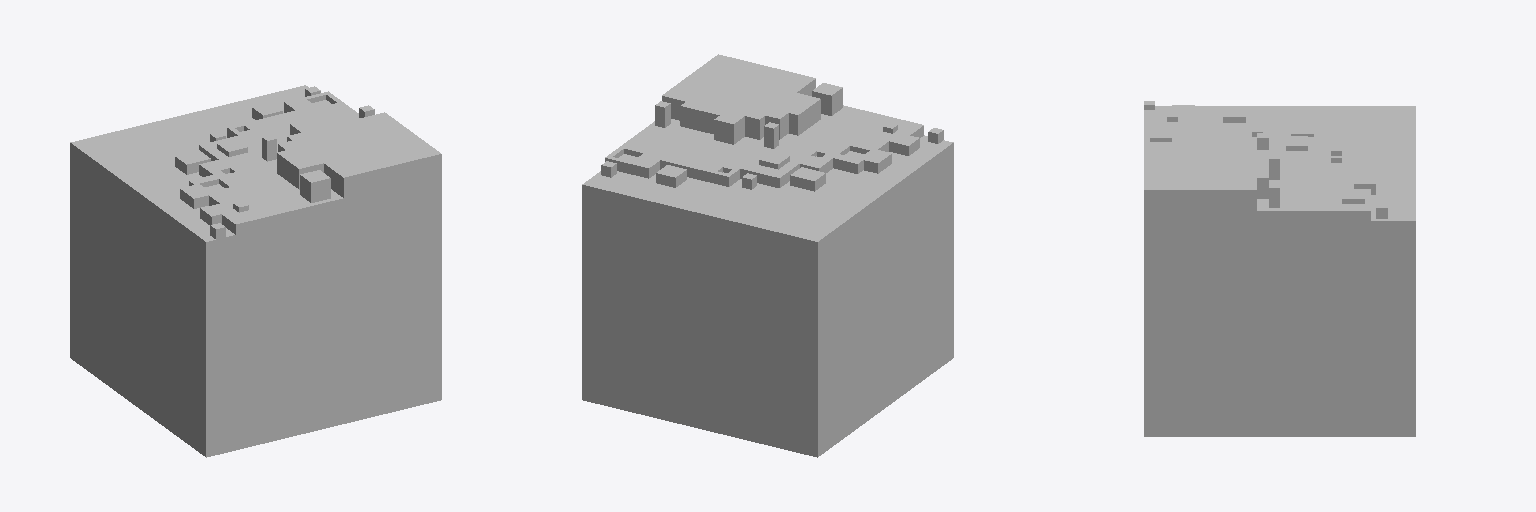
Rendered from grass2riverOuterCorner-0.obj.
The picture shows the model from 3 angles: view 1: azimuth 30°, elevation 25°; view 2: azimuth 150°, elevation 25°; view 3: azimuth 270°, elevation 25°; orthographic projection.
Parts seen in each view (by area): view 1: object 1; view 2: object 1; view 3: object 1.
Part boxes in pixels (x1,y1,x2,y2): object 1: (70, 85, 441, 457); object 1: (582, 54, 953, 457); object 1: (1144, 101, 1415, 436).
Size of the model in its own units: 4.8 by 4.8 by 4.8.